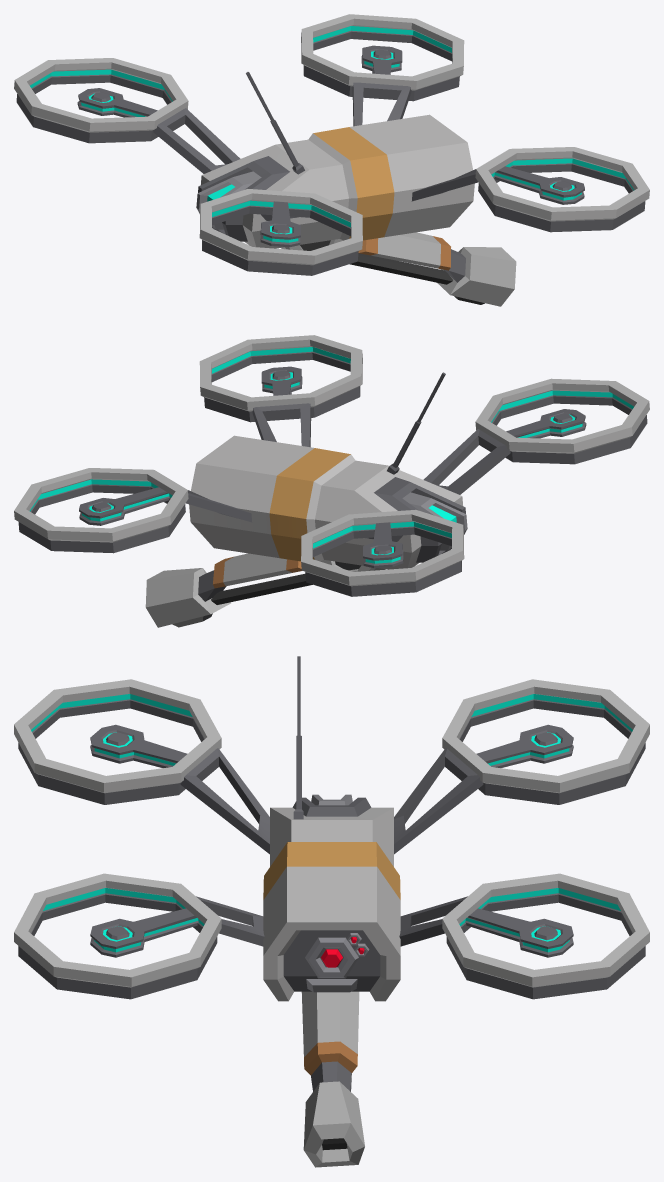
Rendered from SM_Prop_Drone_Quad_01.fbx.
The picture shows the model from 3 angles, top to bottom: view 1: azimuth 30°, elevation 25°; view 2: azimuth 150°, elevation 25°; view 3: azimuth 270°, elevation 25°; orthographic projection. The views are drawn at different scales.
Visible parts, largest first — view 1: SM_Prop_Drone_Quad_01, SM_Prop_Robotic_Part_011; view 2: SM_Prop_Drone_Quad_01, SM_Prop_Robotic_Part_011; view 3: SM_Prop_Drone_Quad_01, SM_Prop_Robotic_Part_011.
Part boxes in pixels (box(x1,y1,x2,y2)): SM_Prop_Drone_Quad_01: box(14, 14, 649, 275); SM_Prop_Robotic_Part_011: box(281, 232, 516, 306); SM_Prop_Drone_Quad_01: box(14, 335, 649, 596); SM_Prop_Robotic_Part_011: box(145, 553, 385, 627); SM_Prop_Drone_Quad_01: box(14, 656, 649, 1001); SM_Prop_Robotic_Part_011: box(301, 991, 364, 1167).
Size of the model in its own units: 1.17 by 0.7794 by 1.25.
Materials: 1 (1 with a texture image).
